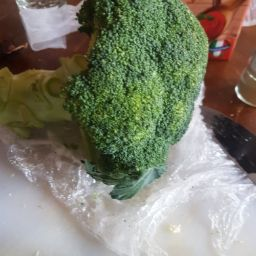Broccoli florets: (1, 4, 234, 191)
